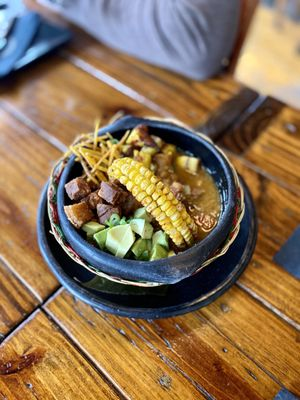sushi: (46, 114, 240, 287)
